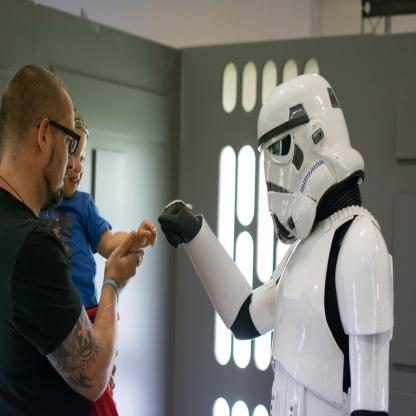Helmet: (256, 81, 367, 242)
